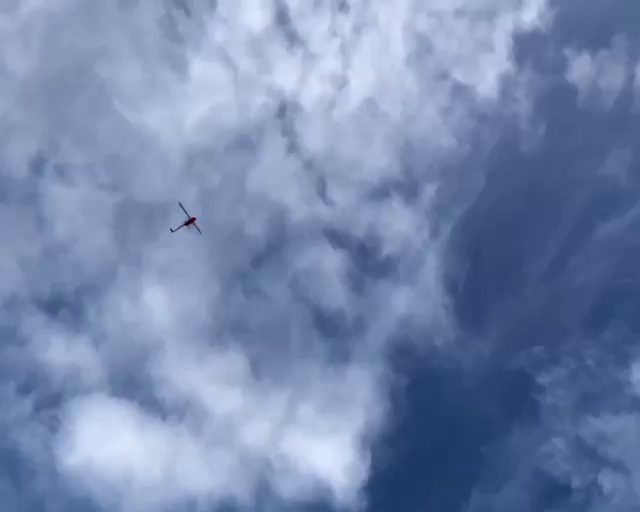HELICOPTER: (171, 201, 200, 235)
